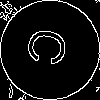C: (25, 25, 78, 71)
